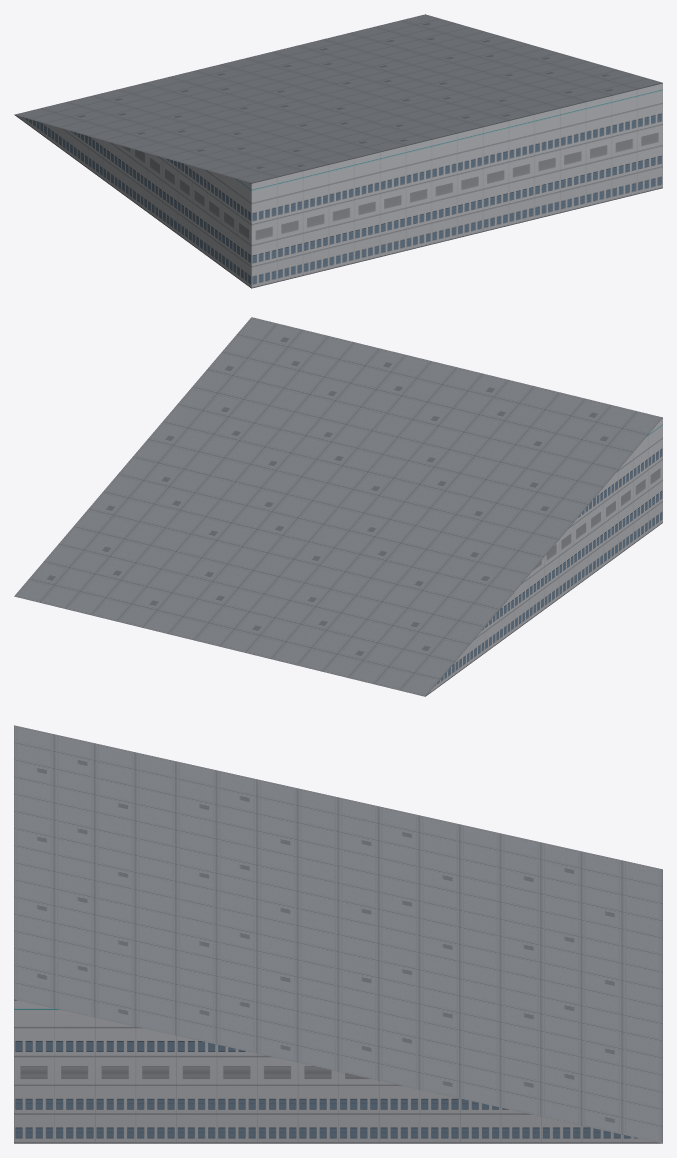
The model's file is BLD_POD_Ramp.fbx.
3 renders of one model, top to bottom at view 1: azimuth 30°, elevation 25°; view 2: azimuth 150°, elevation 25°; view 3: azimuth 270°, elevation 25°, orthographic. The views are drawn at different scales.
Visible parts, largest first — view 1: BLD_POD_Ramp; view 2: BLD_POD_Ramp; view 3: BLD_POD_Ramp.
Part boxes in pixels (x1=…): BLD_POD_Ramp: x1=14, y1=14, x2=662, y2=288; BLD_POD_Ramp: x1=14, y1=317, x2=662, y2=696; BLD_POD_Ramp: x1=14, y1=725, x2=662, y2=1143.
Size of the model in its own units: 100 by 24.5 by 100.
